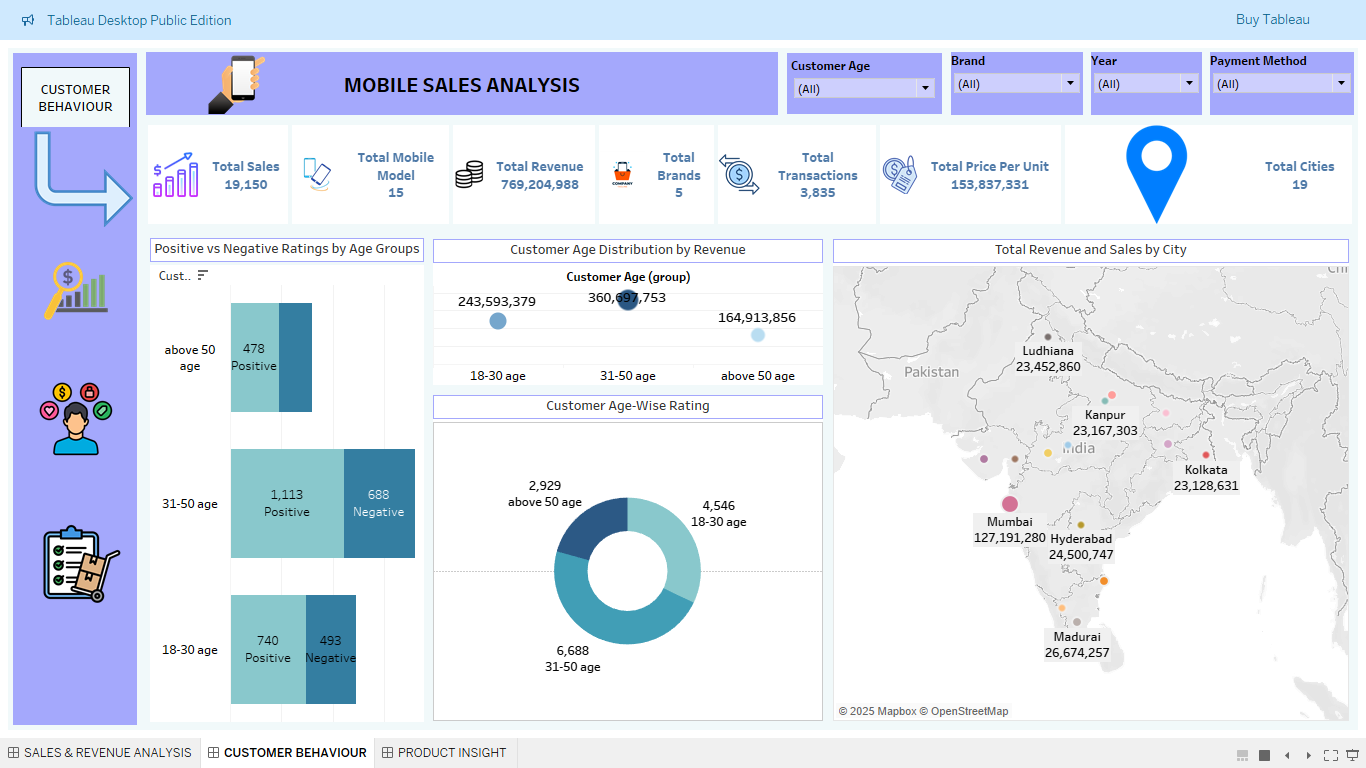

What the dashboard file says about the page in this screenshot:
{"tool":"tableau","page":{"name":"CUSTOMER BEHAVIOUR","canvas":[1000,1000],"units":"permille","ordinal":0},"visuals":[{"type":"text","box":[103.8,11.5,468.3,101.7]},{"type":"filter","title":"Customer Age Distribution by Revenue","param":"[federated.1yo039a0kqphna190egkz1xvh2p4].[none:Brand:nk]","box":[693.6,11.5,102.3,101.7]},{"type":"filter","title":"Customer Age Distribution by Revenue","param":"[federated.1yo039a0kqphna190egkz1xvh2p4].[none:Year:ok]","box":[796,11.5,86.8,101.7]},{"type":"filter","title":"Customer Age Distribution by Revenue","param":"[federated.1yo039a0kqphna190egkz1xvh2p4].[none:Payment Method:nk]","box":[882.8,11.5,111.4,101.7]},{"type":"filter","title":"Customer Age Distribution by Revenue","param":"[federated.1yo039a0kqphna190egkz1xvh2p4].[Customer Age (group)]","box":[576.1,18.6,113.5,87.4]},{"type":"image","param":"C:/Users/DELL/Documents/ITVEDANT/FINAL PROJECTS/TABLEAU FINAL PROJECT DOCUMENTS/","box":[116.9,21.7,111.7,85.1]},{"type":"text","box":[15.6,38,79.7,87]},{"type":"image","param":"C:/Users/DELL/Downloads/total-sales-1.png","box":[106.7,118.9,41.7,147.2]},{"type":"worksheet","title":"Total Sales","mark":"Automatic","box":[148.4,118.9,63.7,147.2]},{"type":"image","param":"C:/Users/DELL/Downloads/pngtree-smartphone-logo-design-blue-contact-png-image_55","box":[212.1,118.9,38.1,147.2]},{"type":"worksheet","title":"Total Mobile Models","mark":"Automatic","box":[250.2,118.9,79.8,147.2]},{"type":"image","param":"C:/Users/DELL/Downloads/total-revenue-64.png","box":[330,118.9,24.9,147.2]},{"type":"worksheet","title":"Total Revenue","mark":"Automatic","box":[354.9,118.9,82,147.2]},{"type":"image","param":"C:/Users/DELL/Downloads/flat-design-mobile-store-logo-template/7938816.jpg","box":[436.9,118.9,35.1,147.2]},{"type":"worksheet","title":"Total Brands","mark":"Automatic","box":[472,118.9,52,147.2]},{"type":"image","param":"C:/Users/DELL/Downloads/transaction.png","box":[524,118.9,32.2,147.2]},{"type":"worksheet","title":"Total Transaction","mark":"Automatic","box":[556.2,118.9,86.4,147.2]},{"type":"image","param":"C:/Users/DELL/Downloads/price.png","box":[642.6,118.9,30,147.2]},{"type":"worksheet","title":"Total Price Per Unit","mark":"Automatic","box":[672.6,118.9,105.4,147.2]},{"type":"image","param":"C:/Users/DELL/Downloads/location-icon-png-4240.png","box":[778,118.9,135.7,147.2]},{"type":"worksheet","title":"Total Cities","mark":"Automatic","box":[913.6,118.9,77.6,147.2]},{"type":"image","param":"C:/Users/DELL/Documents/ITVEDANT/FINAL PROJECTS/kindpng_102523.png","box":[25.1,126.8,72.7,143.1]},{"type":"worksheet","title":"Positive vs Negative Ratings by Age Groups","mark":"Automatic","cols":["Transaction ID"],"box":[106.7,277.6,206.5,705.2]},{"type":"worksheet","title":"Customer Age Distribution by Revenue","mark":"Circle","rows":["Calculation_919015832171958272"],"box":[313.2,277.6,292.8,223.5]},{"type":"worksheet","title":"Total Revenue and Sales by City","mark":"Automatic","box":[606,277.6,385.2,705.2]},{"type":"dashboard-object","box":[21.7,300.7,67.5,119.6]},{"type":"dashboard-object","box":[20.8,483.7,70.1,115.9]},{"type":"worksheet","title":"Customer Age-Wise Rating","mark":"Pie","rows":["Calculation_150589146214727680","Calculation_150589146214727680"],"box":[313.2,501.1,292.8,481.7]},{"type":"dashboard-object","box":[22.5,690.2,73.6,119.6]}]}

Visuals, with their boxes on the dashboard's canvas, which has no fixed pixel size, in thousandths of its width and height (x1, y1, x2, y2). These are canvas units, not pixel positions in the 1366x768 screenshot, which may show the page scaled, cropped or inside an application window:
text: 104:12:572:113
"Customer Age Distribution by Revenue" filter: 694:12:796:113
"Customer Age Distribution by Revenue" filter: 796:12:883:113
"Customer Age Distribution by Revenue" filter: 883:12:994:113
"Customer Age Distribution by Revenue" filter: 576:19:690:106
image: 117:22:229:107
text: 16:38:95:125
image: 107:119:148:266
"Total Sales" worksheet: 148:119:212:266
image: 212:119:250:266
"Total Mobile Models" worksheet: 250:119:330:266
image: 330:119:355:266
"Total Revenue" worksheet: 355:119:437:266
image: 437:119:472:266
"Total Brands" worksheet: 472:119:524:266
image: 524:119:556:266
"Total Transaction" worksheet: 556:119:643:266
image: 643:119:673:266
"Total Price Per Unit" worksheet: 673:119:778:266
image: 778:119:914:266
"Total Cities" worksheet: 914:119:991:266
image: 25:127:98:270
"Positive vs Negative Ratings by Age Groups" worksheet: 107:278:313:983
"Customer Age Distribution by Revenue" worksheet (Circle marks): 313:278:606:501
"Total Revenue and Sales by City" worksheet: 606:278:991:983
dashboard-object: 22:301:89:420
dashboard-object: 21:484:91:600
"Customer Age-Wise Rating" worksheet (Pie marks): 313:501:606:983
dashboard-object: 22:690:96:810
